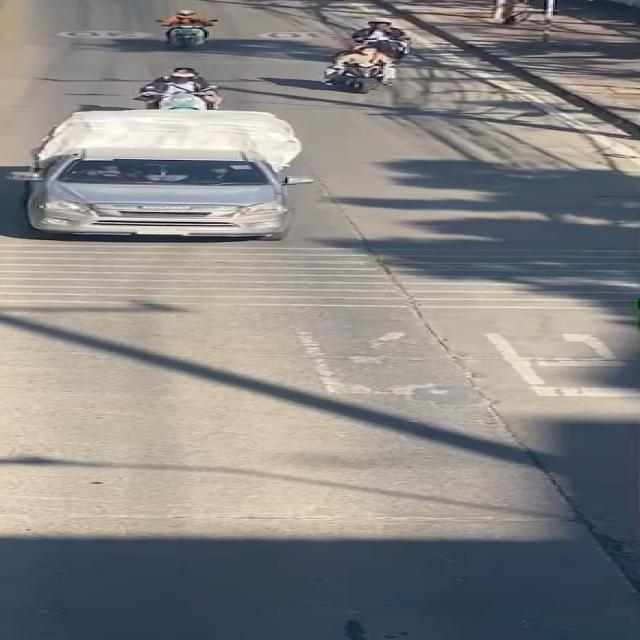car: (0, 132, 348, 265)
